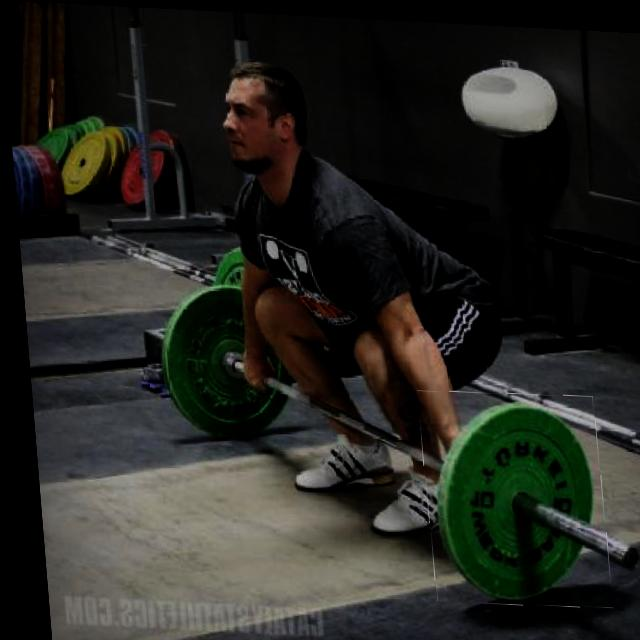barbell: (412, 385, 603, 605)
